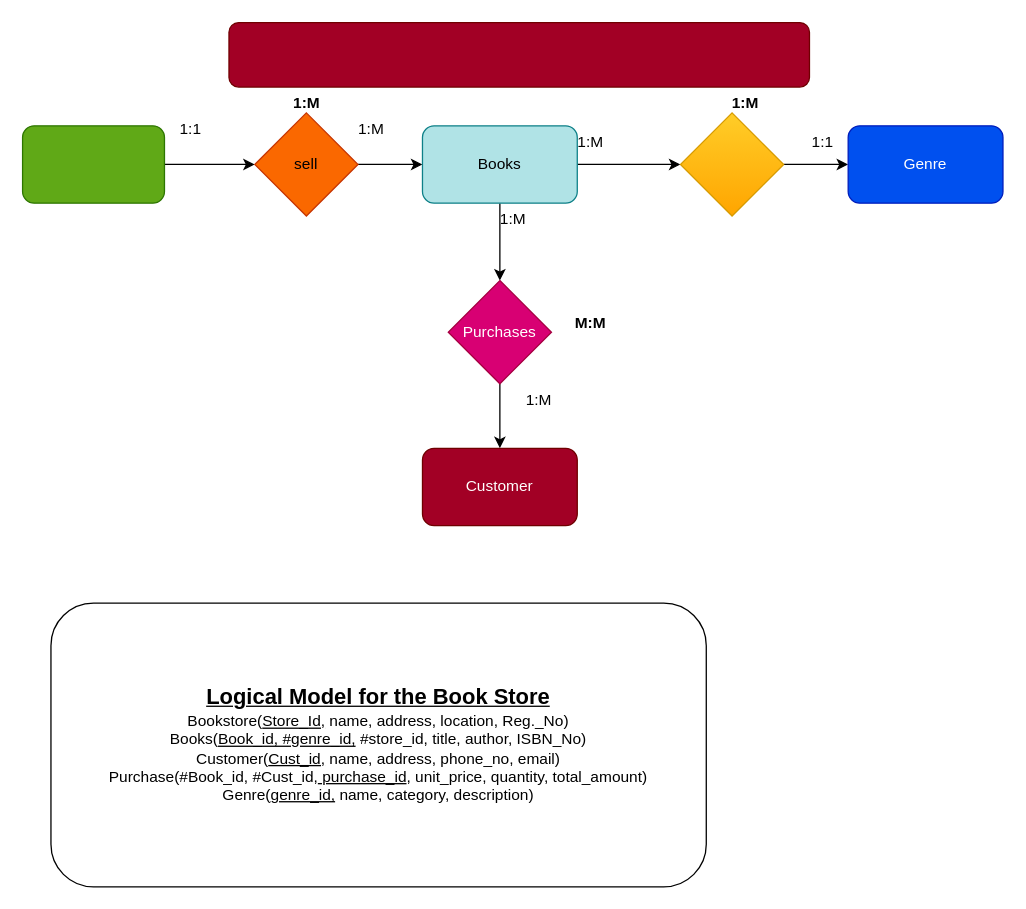
Image size: 1026x909. Some labels were removed from this diagram. The shapes that lost their labels are listed below. From the top down, each one's centre as x and y in pixels, then its label:
At point 518,54: "Bookstore Relational Model".
At point 92,163: "Book Store".
At point 731,164: "Categorized".
